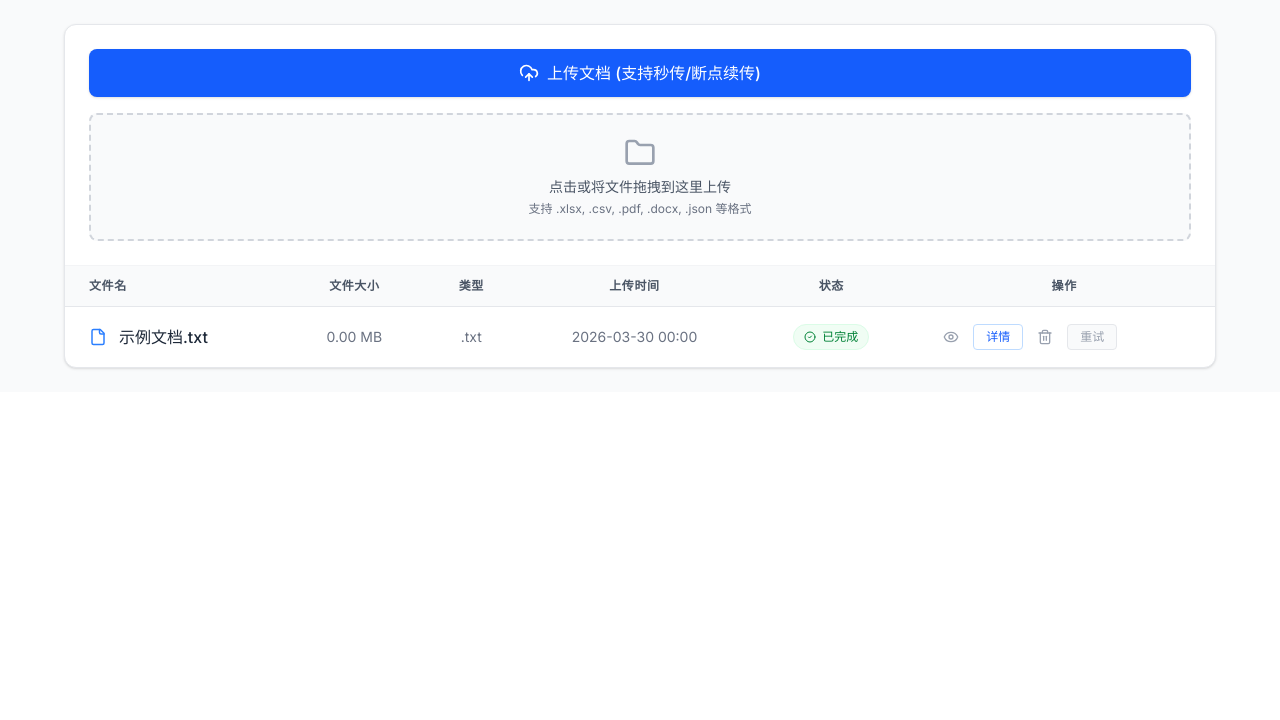
DocumentListPanel preview integration › uses edge-to-edge content area for txt preview
What coordinates should you click on to do the following:
click the button named "预览"
I would click on:
 (951, 337)
Its box is x1=937 y1=323 x2=965 y2=351.
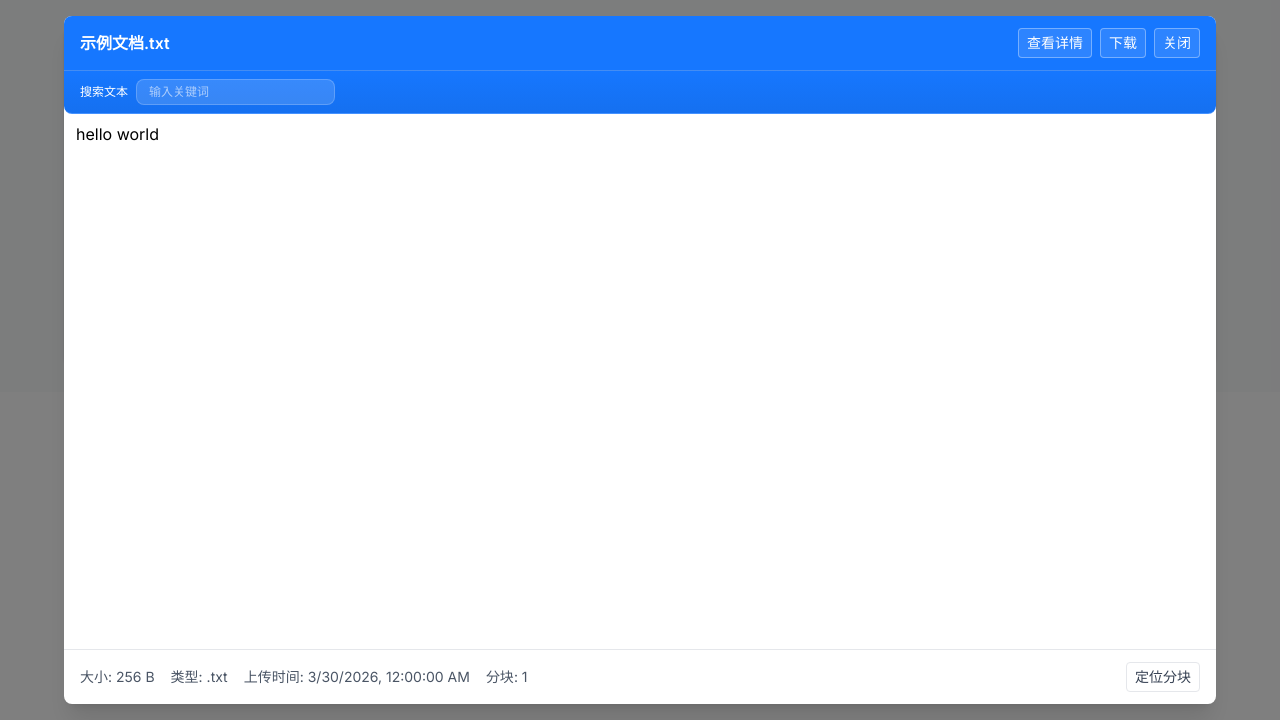
Expected: the dialog is shown
Expected: the element with test id "text-preview-toolbar" is shown, x1=64 y1=70 x2=1216 y2=114
